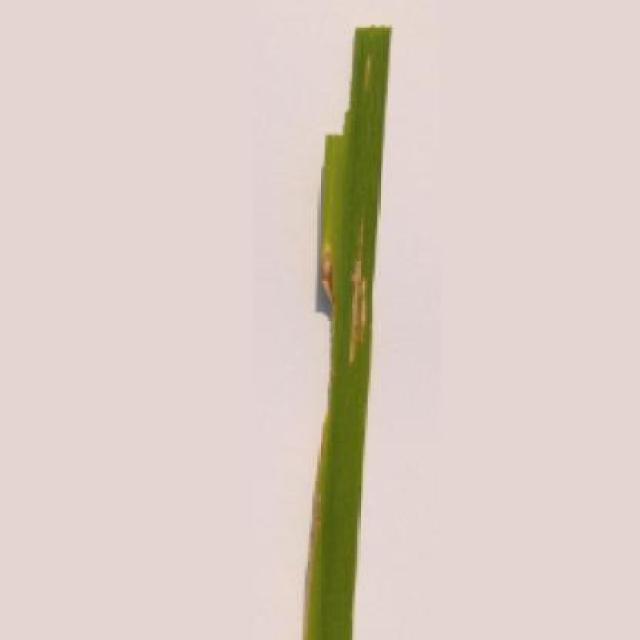Brown_Spot: (301, 15, 397, 640)
